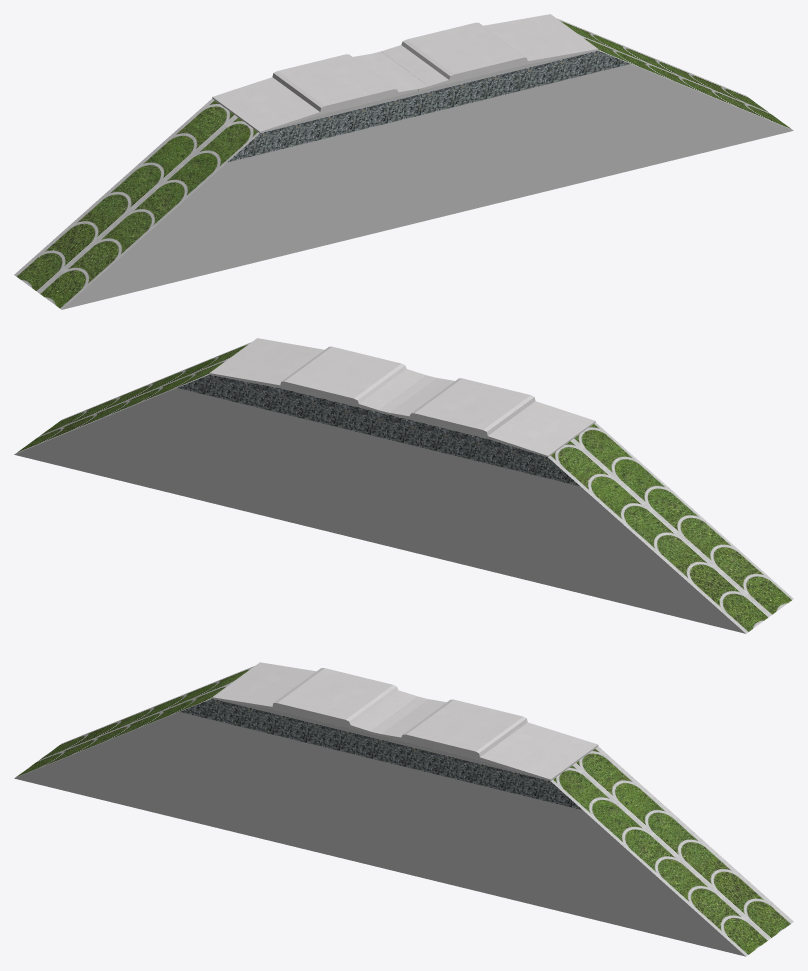
The model's file is 无砟轨道双线路基5m.fbx.
3 views of the same model, one above another, from view 1: azimuth 30°, elevation 25°; view 2: azimuth 150°, elevation 25°; view 3: azimuth 330°, elevation 25° (orthographic).
Parts seen in each view (by area): view 1: 基床002, 表层001; view 2: 基床002, 表层001; view 3: 基床002, 表层001.
Boxes of the visible parts, left/top/right/bottom form: 基床002: left=14, top=18, right=793, bottom=309; 表层001: left=212, top=14, right=598, bottom=133; 基床002: left=14, top=342, right=793, bottom=633; 表层001: left=209, top=338, right=595, bottom=457; 基床002: left=14, top=666, right=793, bottom=956; 表层001: left=212, top=662, right=598, bottom=781.
Bounding box in the file's own units: 44.21 × 8.06 × 5.
